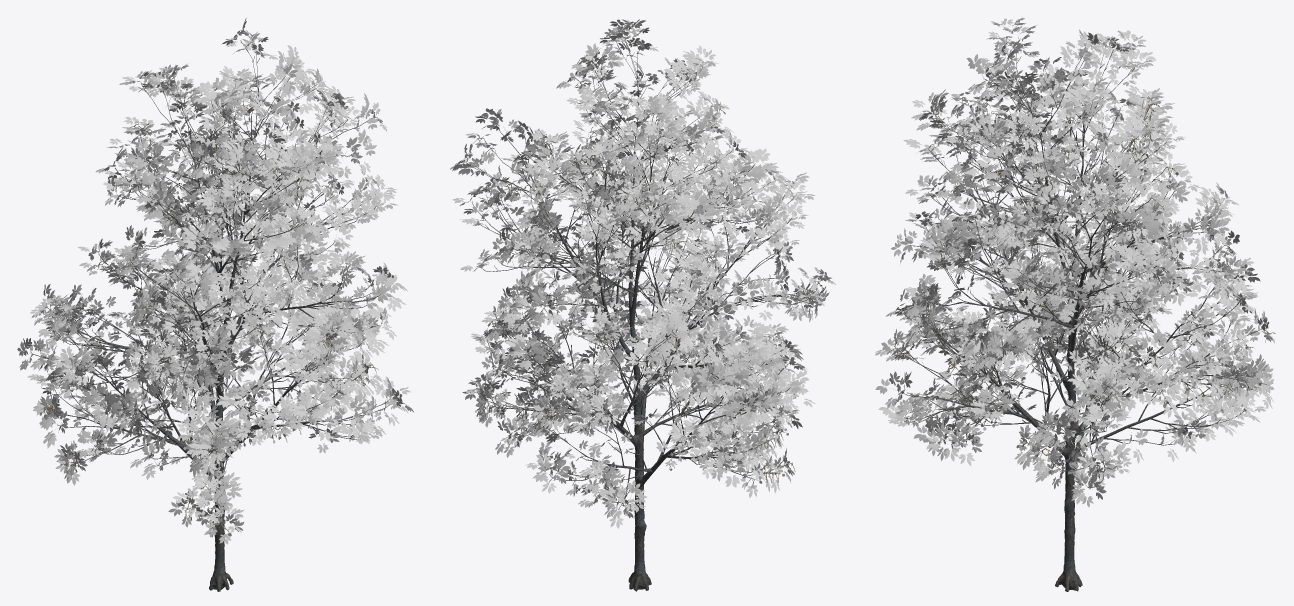
File: Aesculus glabra003_LOW.FBX
3 views of the same model, side by side, from view 1: azimuth 30°, elevation 25°; view 2: azimuth 150°, elevation 25°; view 3: azimuth 270°, elevation 25° (orthographic). The views are drawn at different scales.
Visible parts, largest first — view 1: Aesculus glabra003_LOW; view 2: Aesculus glabra003_LOW; view 3: Aesculus glabra003_LOW.
Boxes of the visible parts, x1,y1,x2,y2 form: Aesculus glabra003_LOW: (17,18,413,591); Aesculus glabra003_LOW: (450,19,835,591); Aesculus glabra003_LOW: (875,17,1275,591).
Bounding box in the file's own units: 4761 × 7063 × 4549.
